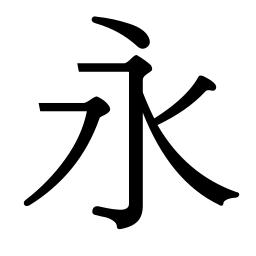D: (89, 12, 152, 51)
HSZ: (120, 53, 154, 87)
Hs: (74, 59, 108, 75)
Ne: (198, 181, 241, 209)
PNc: (143, 97, 171, 135)
PZe: (21, 184, 48, 208)
Ps: (191, 72, 220, 102)
SG: (91, 195, 146, 232)
Sm: (125, 138, 147, 165)
TPZ: (70, 93, 111, 145)
Ts: (36, 99, 54, 115)
